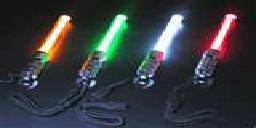LED: (132, 10, 183, 80), (77, 14, 129, 80), (190, 11, 238, 81), (39, 12, 72, 61)
